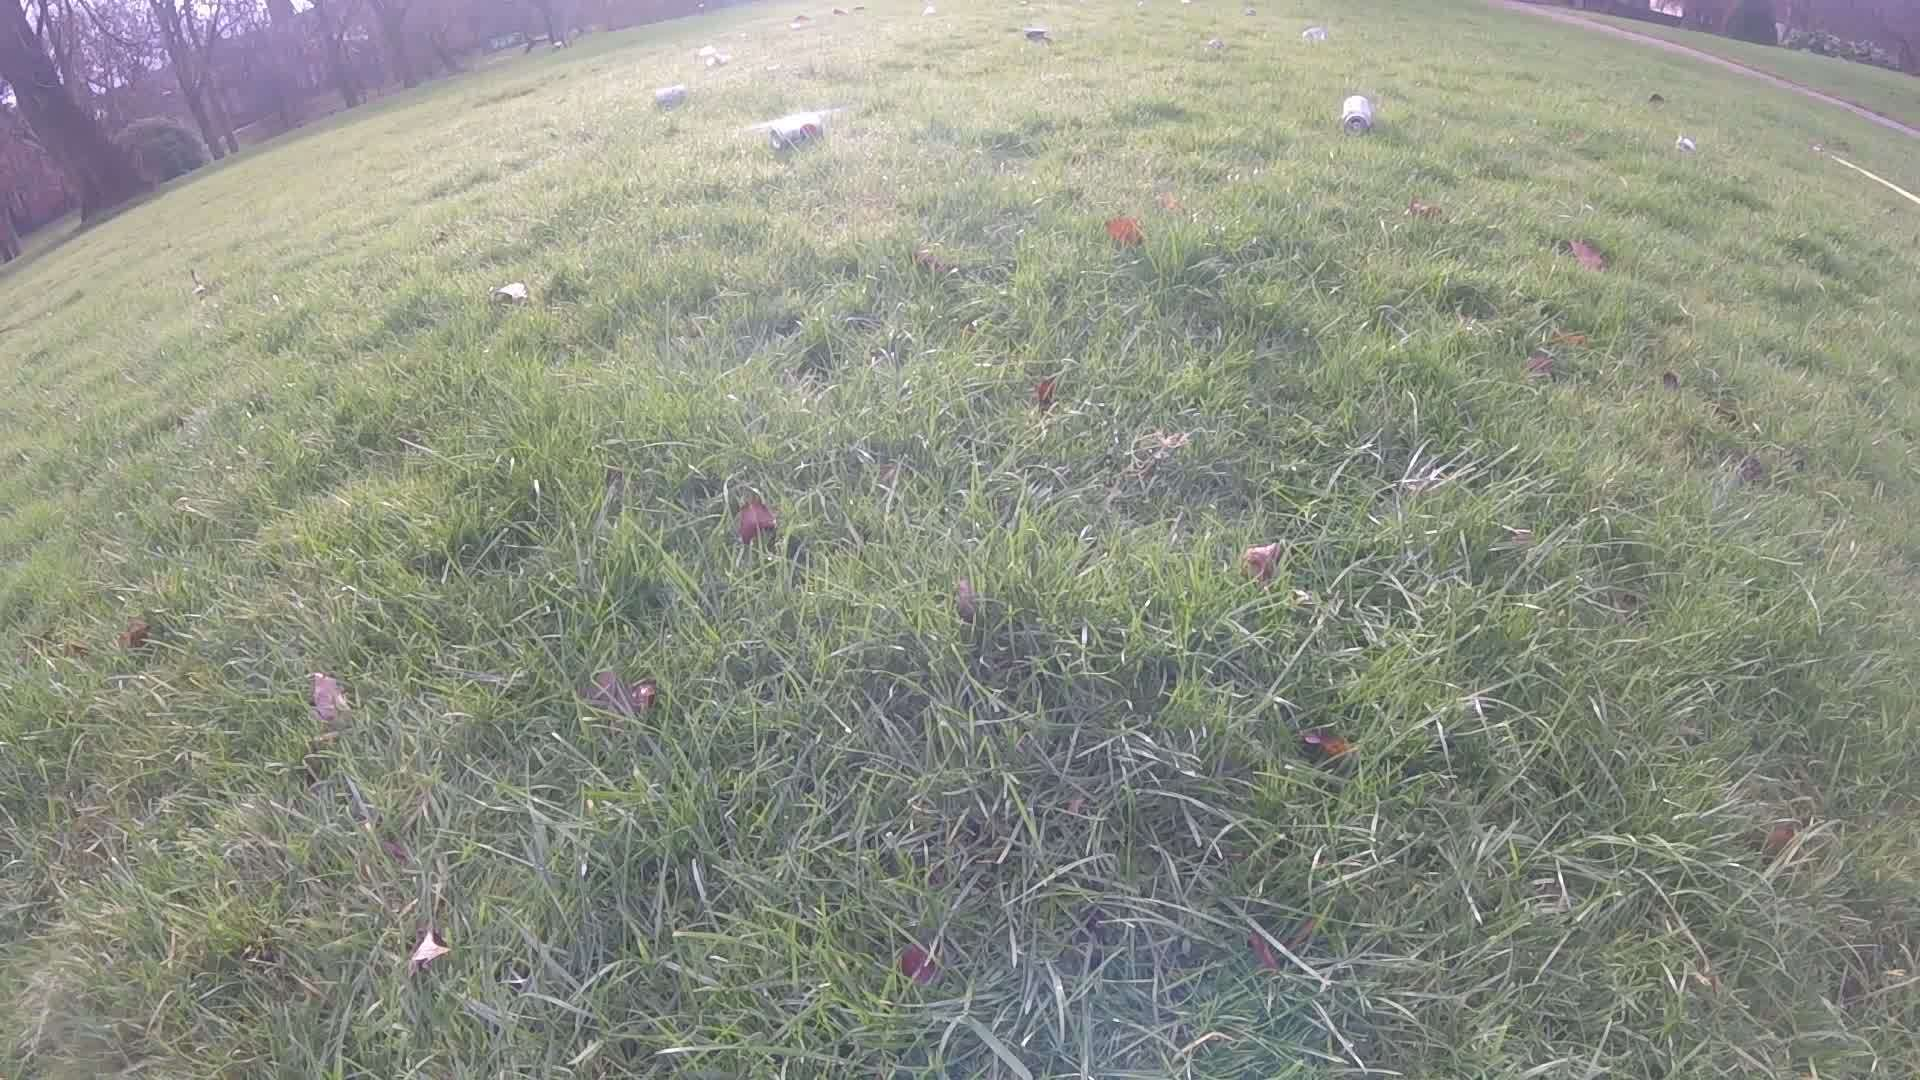litter: (762, 115, 827, 158), (1337, 98, 1375, 135), (647, 84, 692, 113), (694, 49, 735, 65), (1671, 135, 1698, 156), (1302, 28, 1327, 49), (1191, 37, 1224, 51), (913, 3, 938, 18), (1015, 28, 1048, 40), (820, 7, 868, 15), (1643, 92, 1671, 105), (781, 15, 819, 24), (1238, 9, 1259, 20)
